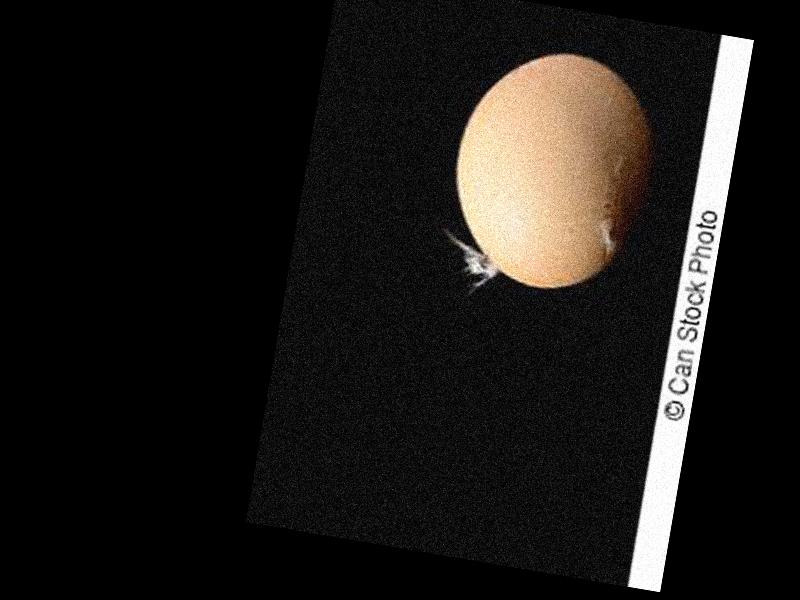Eggs: (440, 38, 671, 303)
